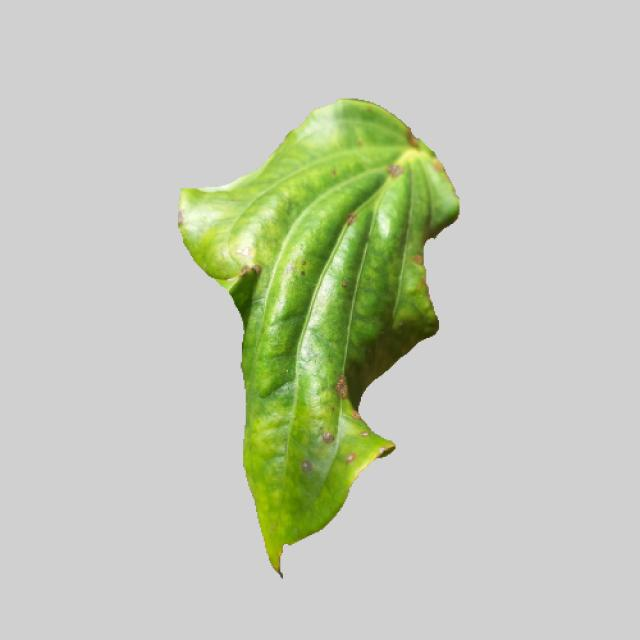yellow-mottle-virus: (157, 106, 479, 581)
